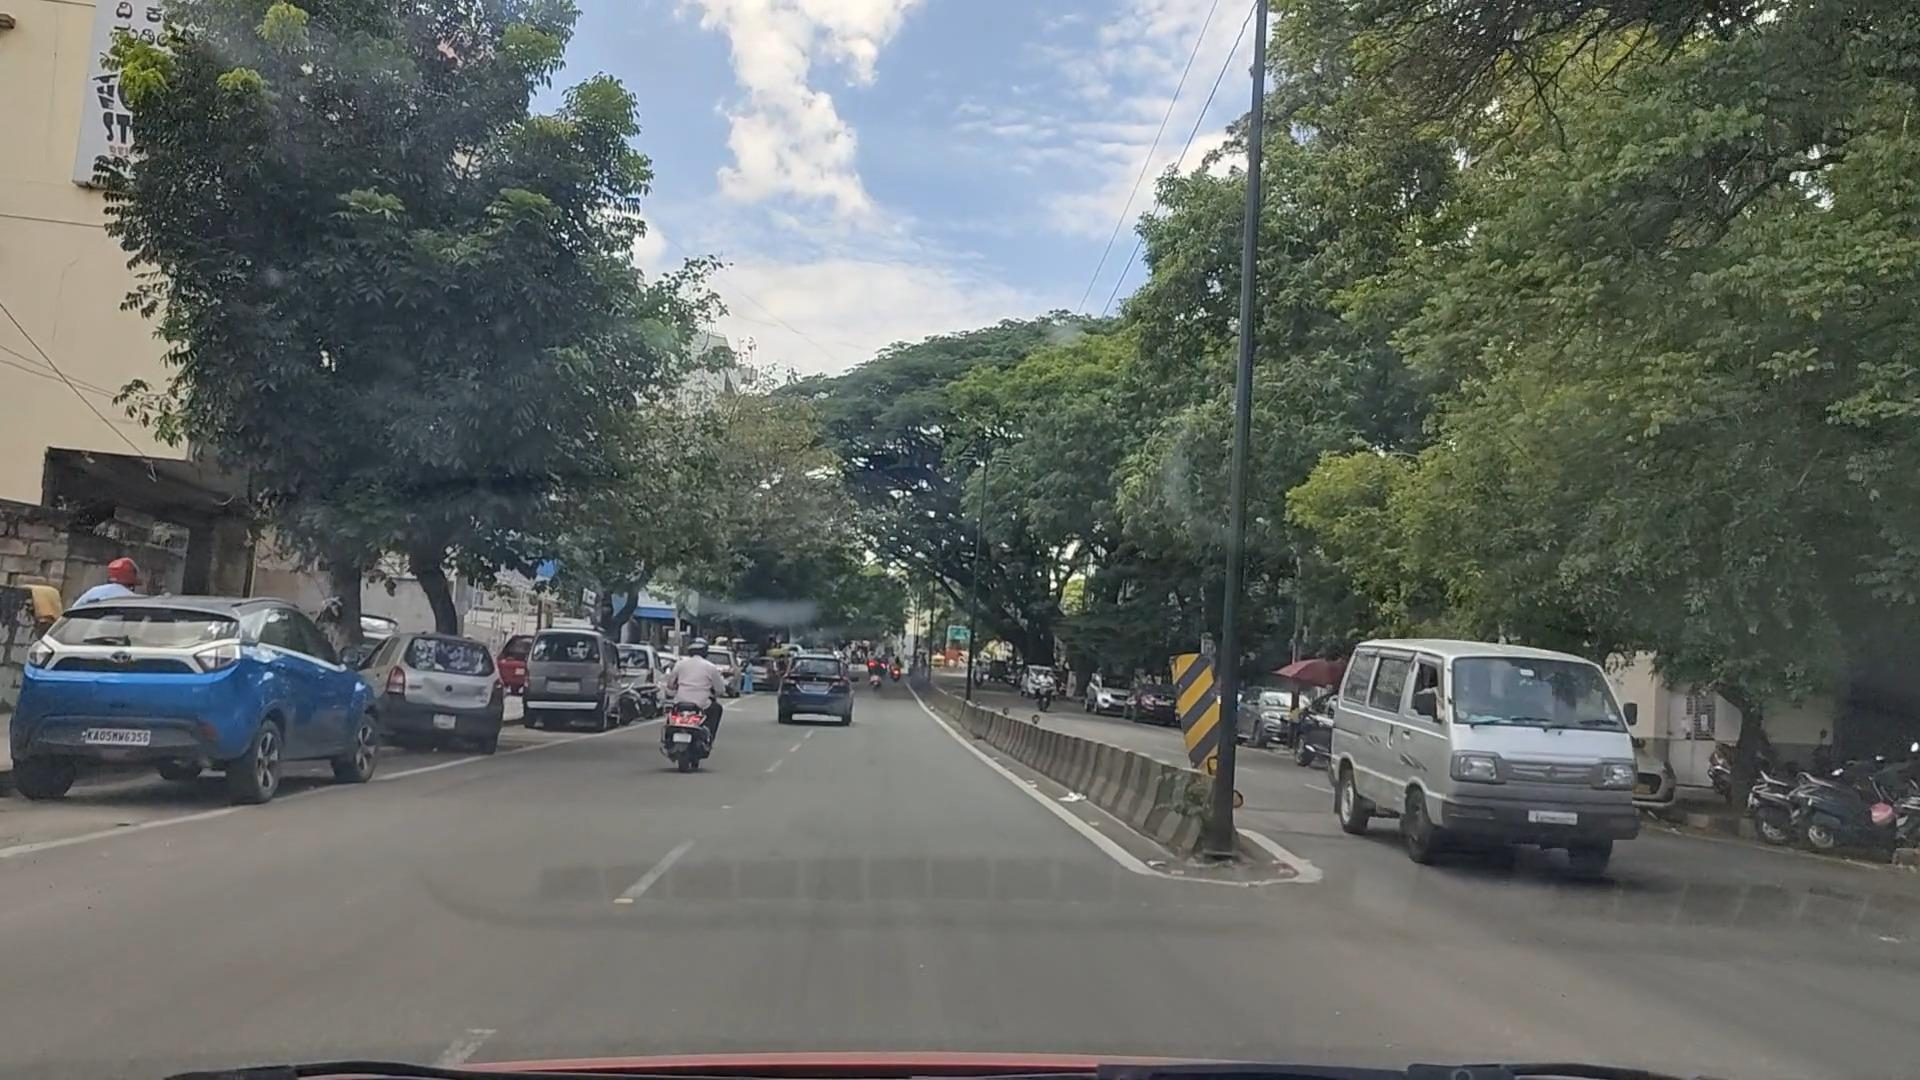LMV: (41, 596, 396, 796), (655, 625, 733, 785)
